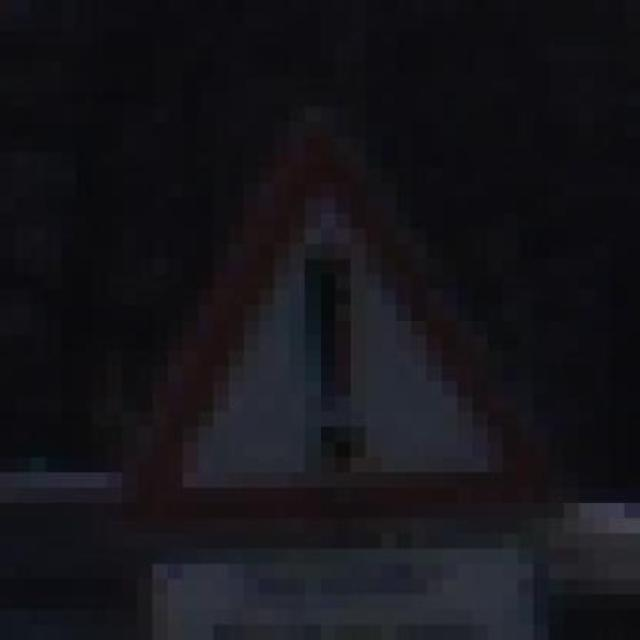Attention Please-: (91, 92, 548, 533)
